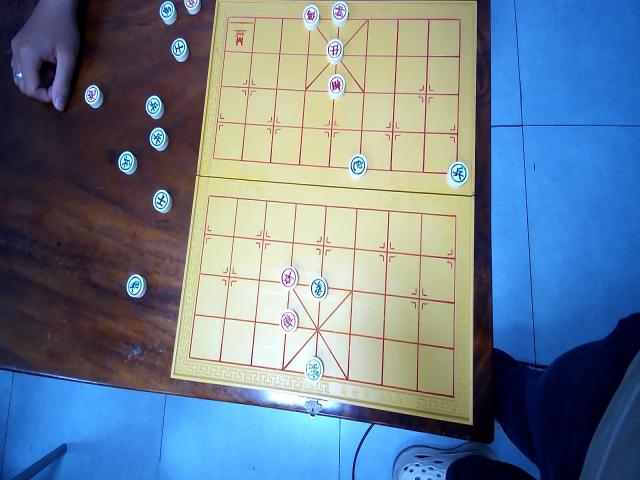piece: (447, 160, 468, 187), (149, 125, 168, 152), (126, 273, 146, 298), (170, 36, 189, 62), (302, 3, 320, 30), (279, 308, 298, 333), (152, 189, 171, 214), (304, 356, 323, 381), (327, 72, 345, 98), (326, 37, 344, 62), (118, 149, 136, 174), (348, 153, 366, 178), (280, 266, 298, 290), (84, 84, 102, 108), (310, 276, 328, 300), (145, 95, 163, 119), (331, 0, 348, 25), (159, 0, 176, 24), (183, 0, 200, 15)
